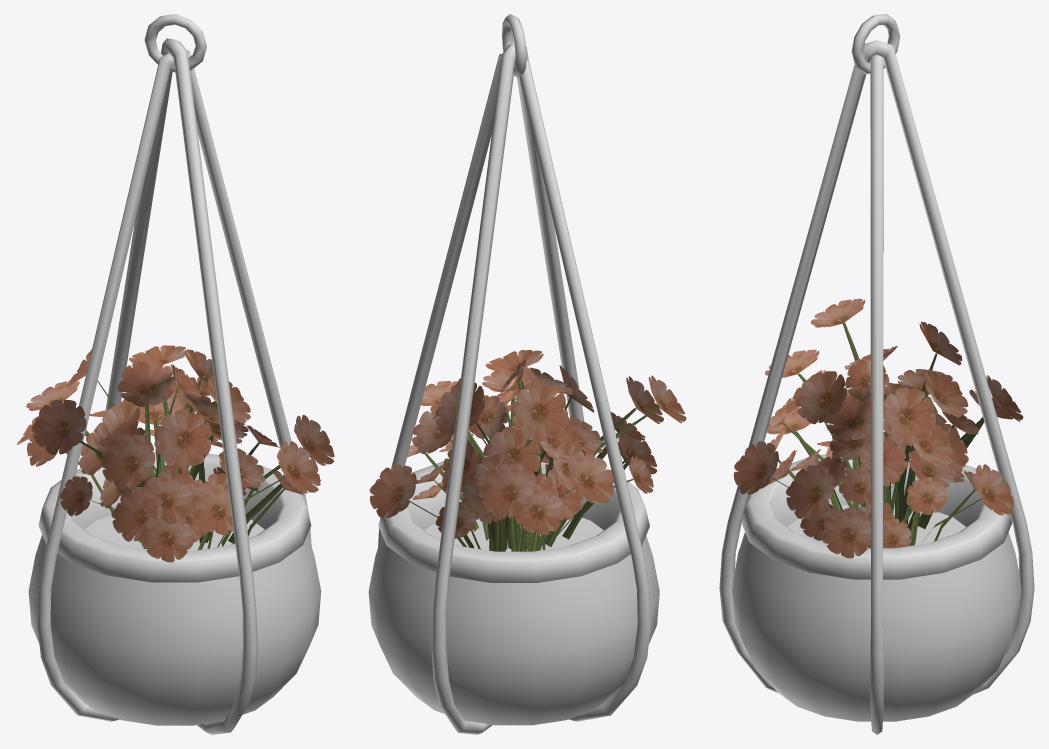
The model's file is SM_Potted_Soft_Pink_Flower_F.fbx.
3 views of the same model, side by side, from view 1: azimuth 30°, elevation 25°; view 2: azimuth 150°, elevation 25°; view 3: azimuth 270°, elevation 25° (orthographic).
Parts seen in each view (by area): view 1: SM_Potted_Soft_Pink_Flower_F_LOD0; view 2: SM_Potted_Soft_Pink_Flower_F_LOD0; view 3: SM_Potted_Soft_Pink_Flower_F_LOD0.
Part boxes in pixels (x1=…): SM_Potted_Soft_Pink_Flower_F_LOD0: x1=17, y1=14, x2=334, y2=734; SM_Potted_Soft_Pink_Flower_F_LOD0: x1=368, y1=14, x2=686, y2=734; SM_Potted_Soft_Pink_Flower_F_LOD0: x1=719, y1=14, x2=1034, y2=734.
Bounding box in the file's own units: 31.81 × 29.61 × 71.54.
Materials: 2 (1 with a texture image).
